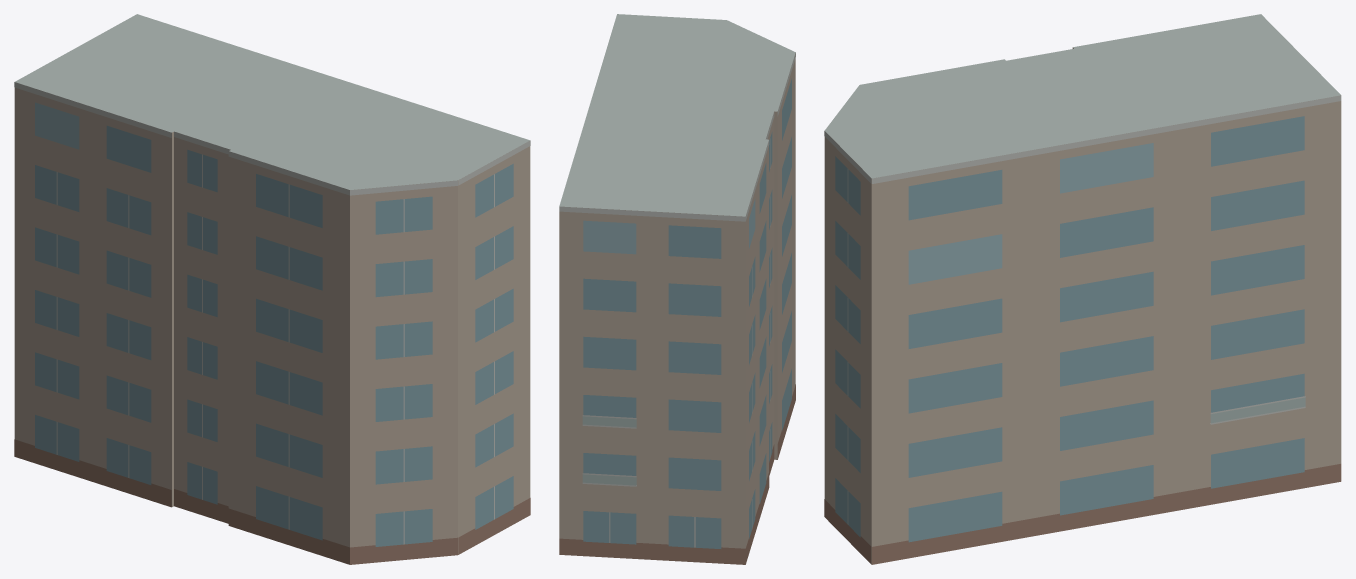
The model's file is survey-upis-32755315.glb.
The picture shows the model from 3 angles, left to right: view 1: azimuth 30°, elevation 25°; view 2: azimuth 150°, elevation 25°; view 3: azimuth 270°, elevation 25°; orthographic projection. The views are drawn at different scales.
Visible parts, largest first — view 1: survey-upis-32755315.tmp; view 2: survey-upis-32755315.tmp; view 3: survey-upis-32755315.tmp.
Boxes of the visible parts, box(x1,y1,x2,y2) form: survey-upis-32755315.tmp: box(14, 14, 530, 564); survey-upis-32755315.tmp: box(559, 14, 795, 564); survey-upis-32755315.tmp: box(824, 14, 1341, 564).
Bounding box in the file's own units: 15.26 × 16.7 × 20.26.
